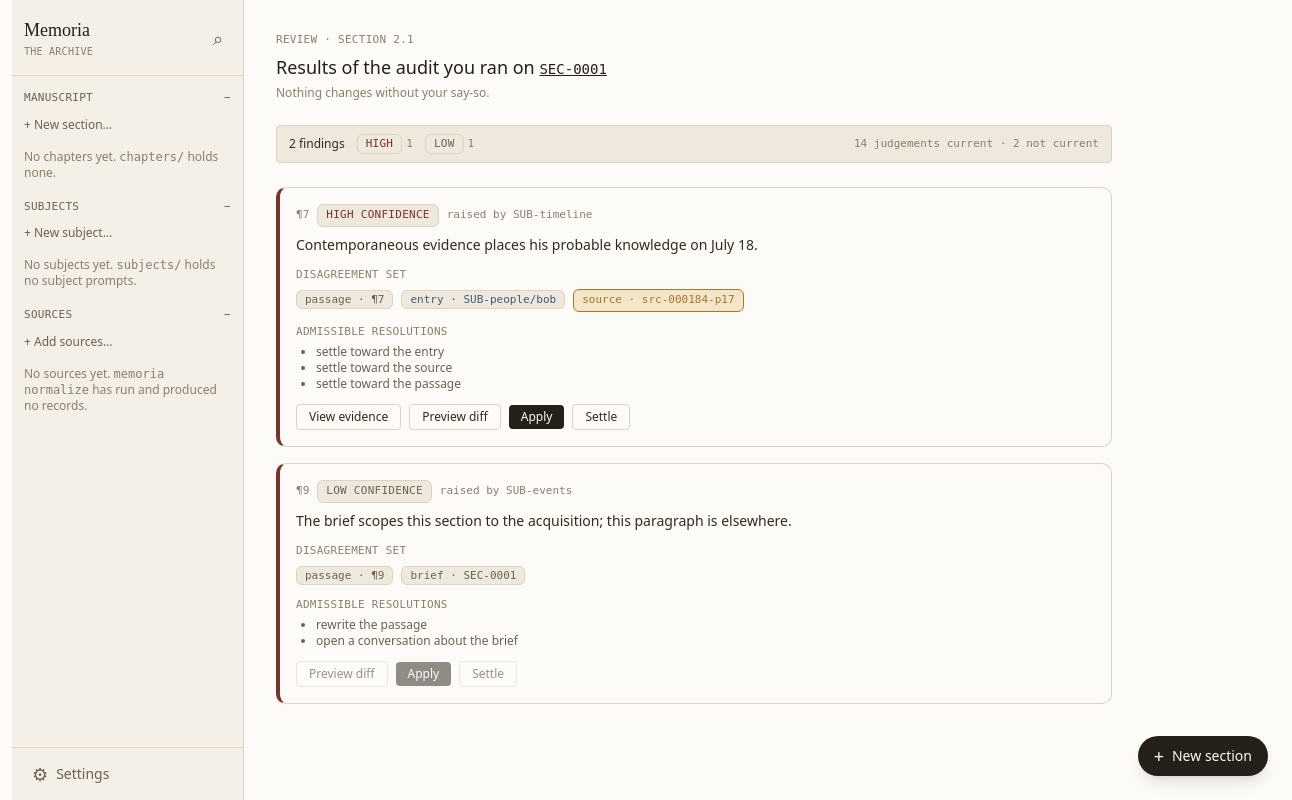
the Review surface › tells a stale draft apart from a failure and writes nothing
Expected: the text "Contemporaneous evidence places" is shown, [296,235,758,254]
Click the button "Apply" below "SUB-timeline": click(537, 417) [509,405,564,429]
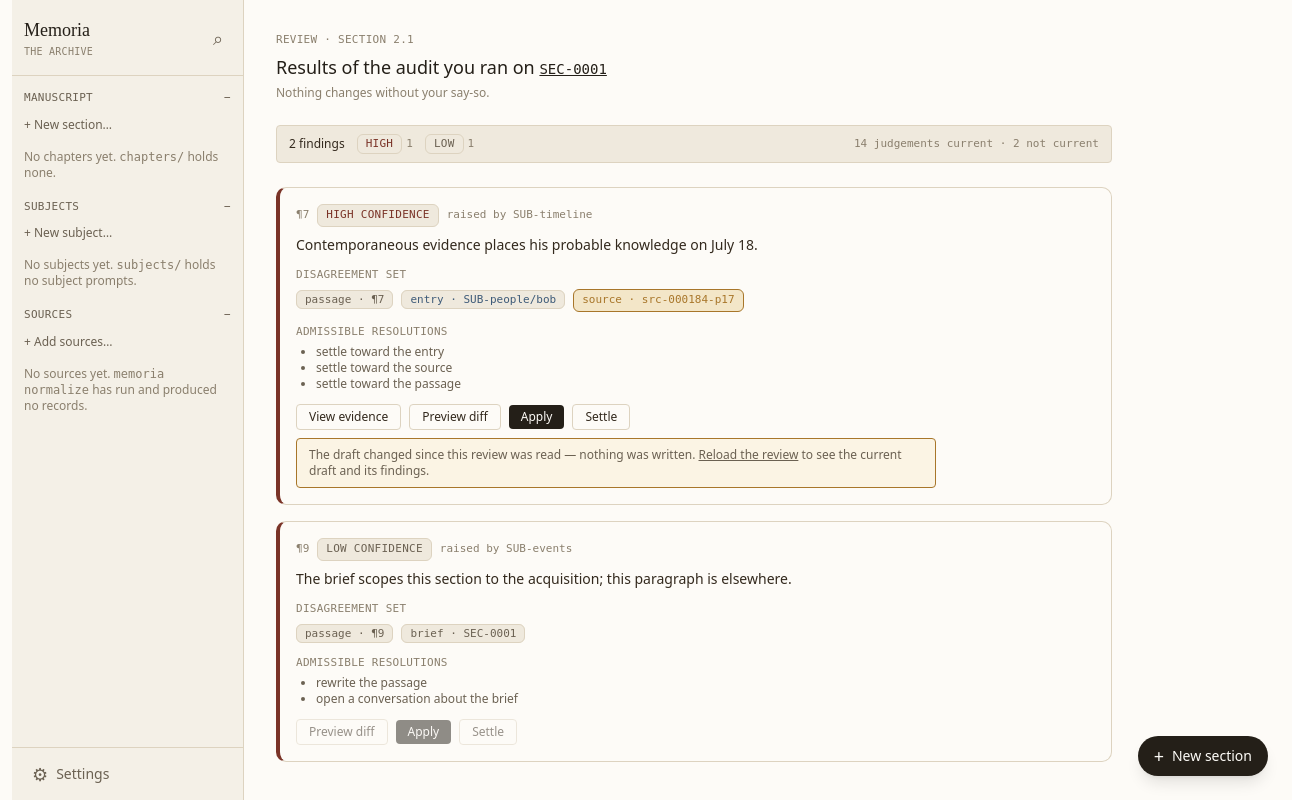
Expected: the text "The draft changed since this review was read" is shown, [309,446,695,463]
Expected: the button "Reload the review" is shown, [698,447,798,463]
